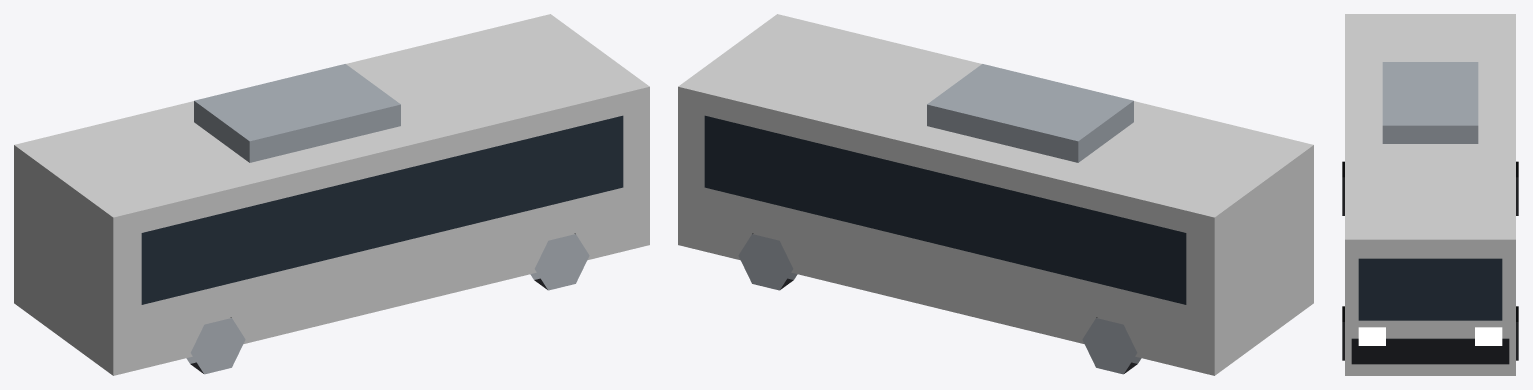
The model's file is bus.glb.
The picture shows the model from 3 angles, left to right: view 1: azimuth 30°, elevation 25°; view 2: azimuth 150°, elevation 25°; view 3: azimuth 270°, elevation 25°; orthographic projection. The views are drawn at different scales.
Visible parts, largest first — view 1: bus; view 2: bus; view 3: bus.
Part boxes in pixels (bbox=[...]): bus: bbox=[14, 14, 649, 375]; bus: bbox=[678, 14, 1313, 375]; bus: bbox=[1342, 14, 1518, 375].
Size of the model in its own units: 0.783 by 0.2766 by 0.258.
